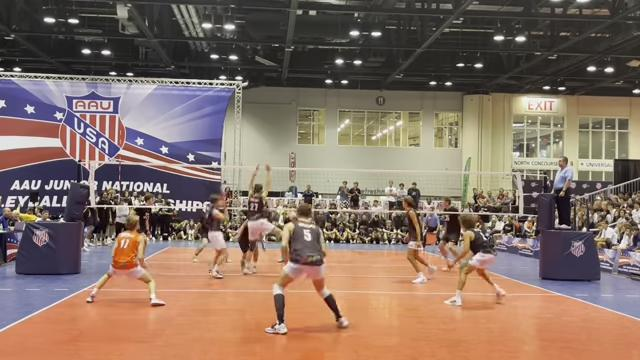Player: (265, 203, 348, 334), (86, 215, 164, 306), (445, 214, 505, 305), (243, 165, 279, 273), (402, 197, 435, 283), (206, 195, 227, 278), (439, 198, 460, 270), (192, 202, 212, 261), (237, 220, 252, 274)
